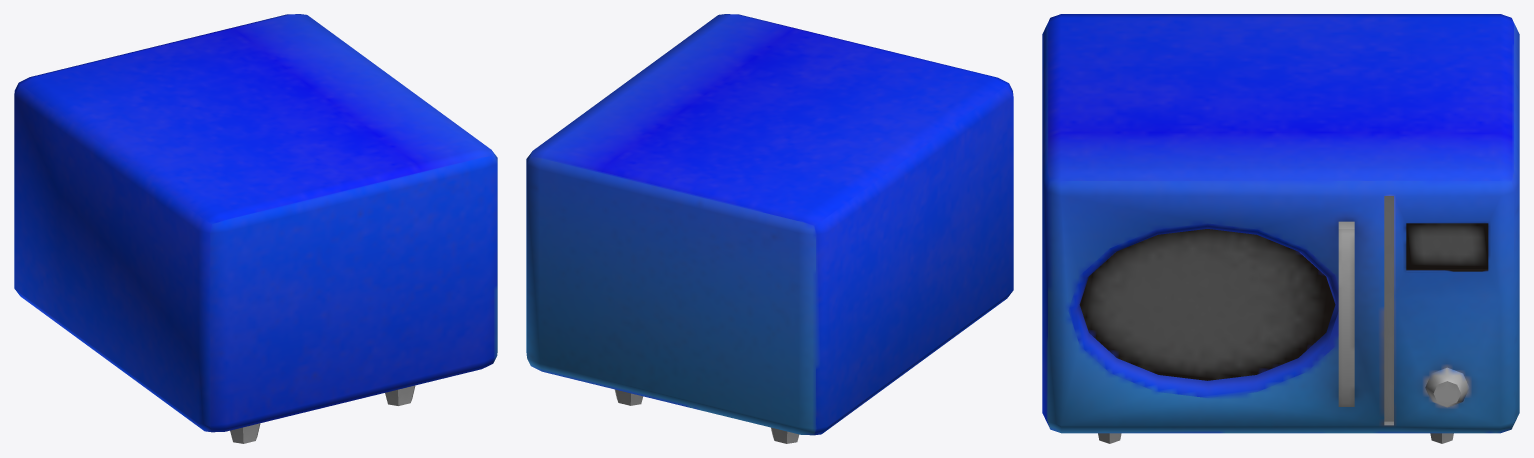
File: PROP_084_Microwave.fbx
3 views of the same model, side by side, from view 1: azimuth 30°, elevation 25°; view 2: azimuth 150°, elevation 25°; view 3: azimuth 270°, elevation 25° (orthographic). The views are drawn at different scales.
Visible parts, largest first — view 1: Cube_007; view 2: Cube_007; view 3: Cube_007.
Boxes of the visible parts, x1=… form: Cube_007: x1=14, y1=14, x2=497, y2=443; Cube_007: x1=526, y1=14, x2=1013, y2=443; Cube_007: x1=1042, y1=14, x2=1519, y2=443.
Bounding box in the file's own units: 0.5415 × 0.4093 × 0.5862.
1 material, 1 textured.
